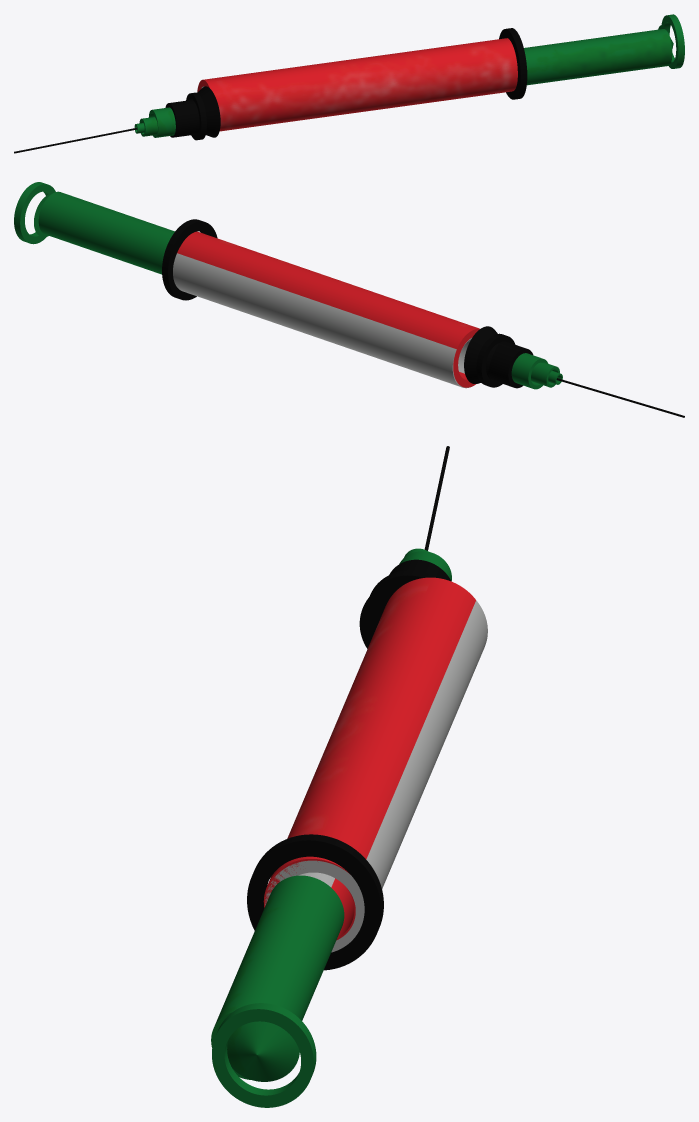
File: syringe.fbx
3 views of the same model, one above another, from view 1: azimuth 30°, elevation 25°; view 2: azimuth 150°, elevation 25°; view 3: azimuth 270°, elevation 25° (orthographic). The views are drawn at different scales.
Visible parts, largest first — view 1: root (×8), node_id841 (×2); view 2: root (×8), node_id841 (×2); view 3: root (×4), node_id841 (×3).
Boxes of the visible parts, x1=… form: root (×8): x1=14, y1=28, x2=527, y2=153; node_id841 (×2): x1=524, y1=14, x2=684, y2=85; root (×8): x1=162, y1=219, x2=559, y2=389; node_id841 (×2): x1=14, y1=182, x2=174, y2=274; root (×4): x1=247, y1=577, x2=487, y2=970; node_id841 (×3): x1=211, y1=875, x2=344, y2=1107.
Bounding box in the file's own units: 1.54 × 0.1549 × 0.2971.
Materials: 13 (12 with a texture image).
